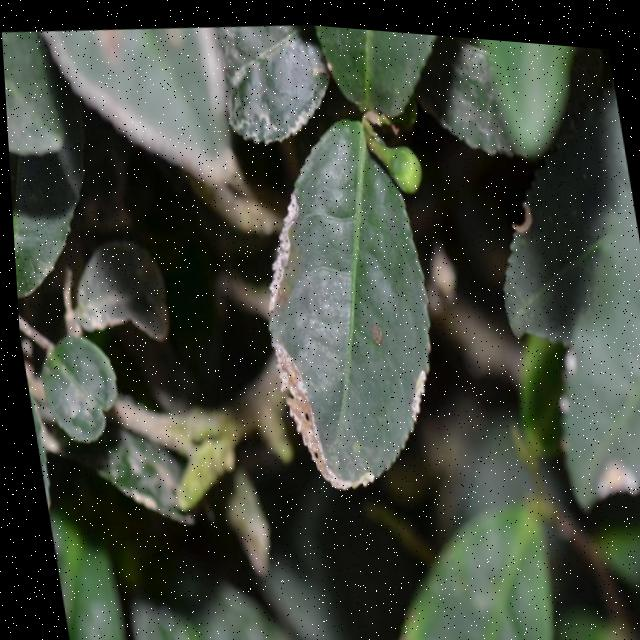Tea cloud leaf blight: (242, 179, 452, 492)
